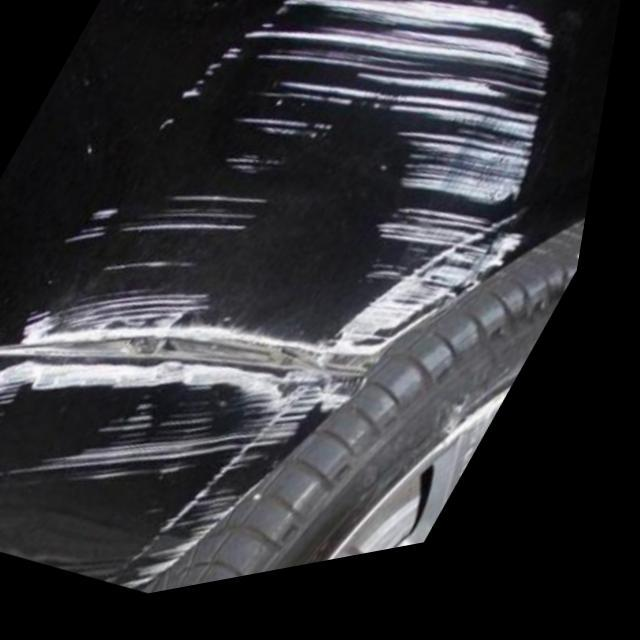rub: (34, 0, 560, 373), (0, 364, 364, 599)
